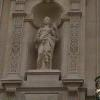Statue: (18, 4, 81, 98)
